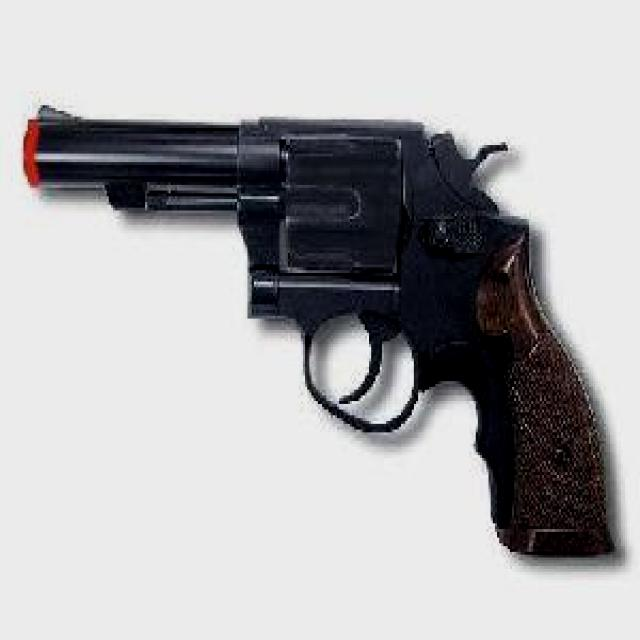pistol: (27, 97, 618, 560)
